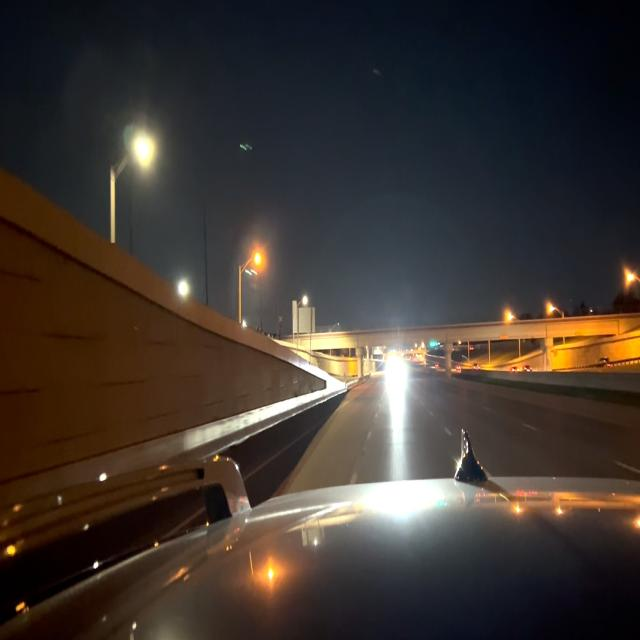back-of-sign: (293, 307, 315, 333)
